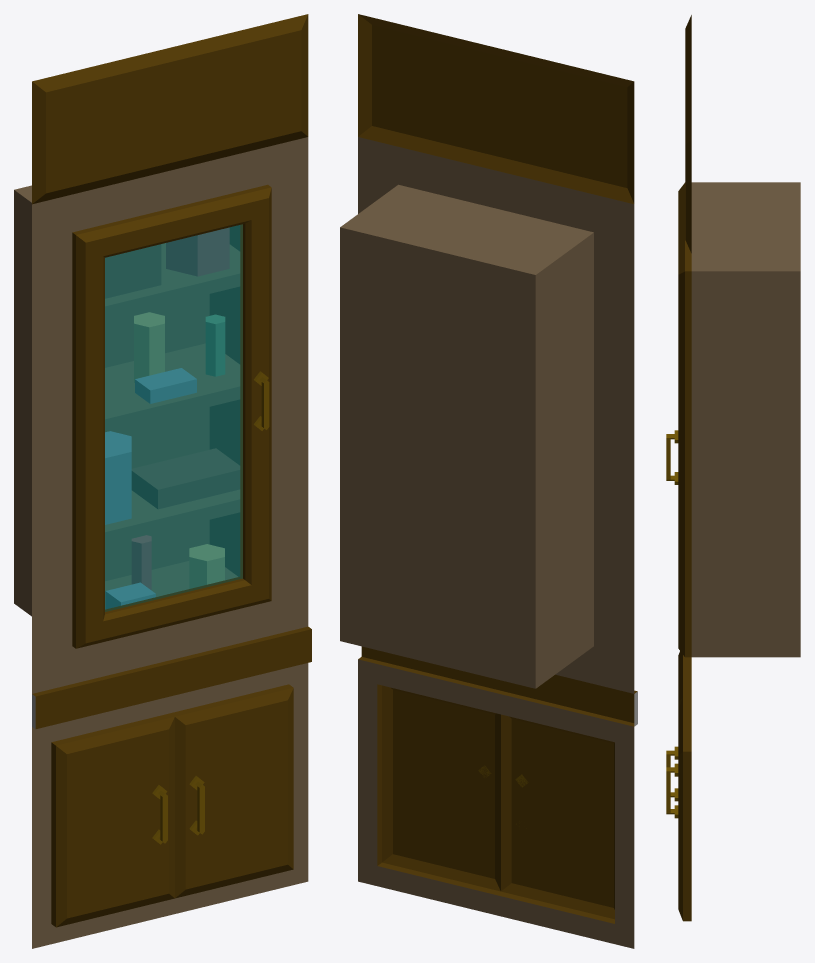
The model's file is ModuloArmario.fbx.
The picture shows the model from 3 angles, left to right: view 1: azimuth 30°, elevation 25°; view 2: azimuth 150°, elevation 25°; view 3: azimuth 270°, elevation 25°; orthographic projection. The views are drawn at different scales.
Parts seen in each view (by area): view 1: ModuloArmario; view 2: ModuloArmario; view 3: ModuloArmario.
Part boxes in pixels (box(x1,y1,x2,y2)): ModuloArmario: box(14, 14, 311, 948); ModuloArmario: box(340, 14, 637, 948); ModuloArmario: box(666, 15, 800, 921).
Size of the model in its own units: 1 by 3 by 0.4505.
